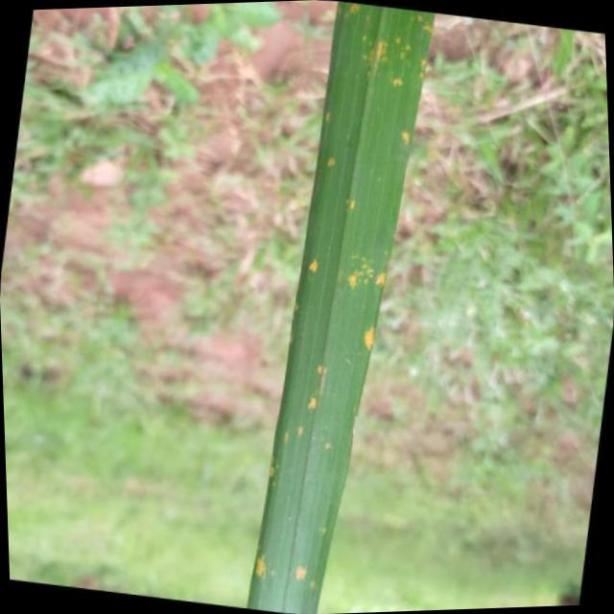Kalium: (248, 0, 433, 614)
